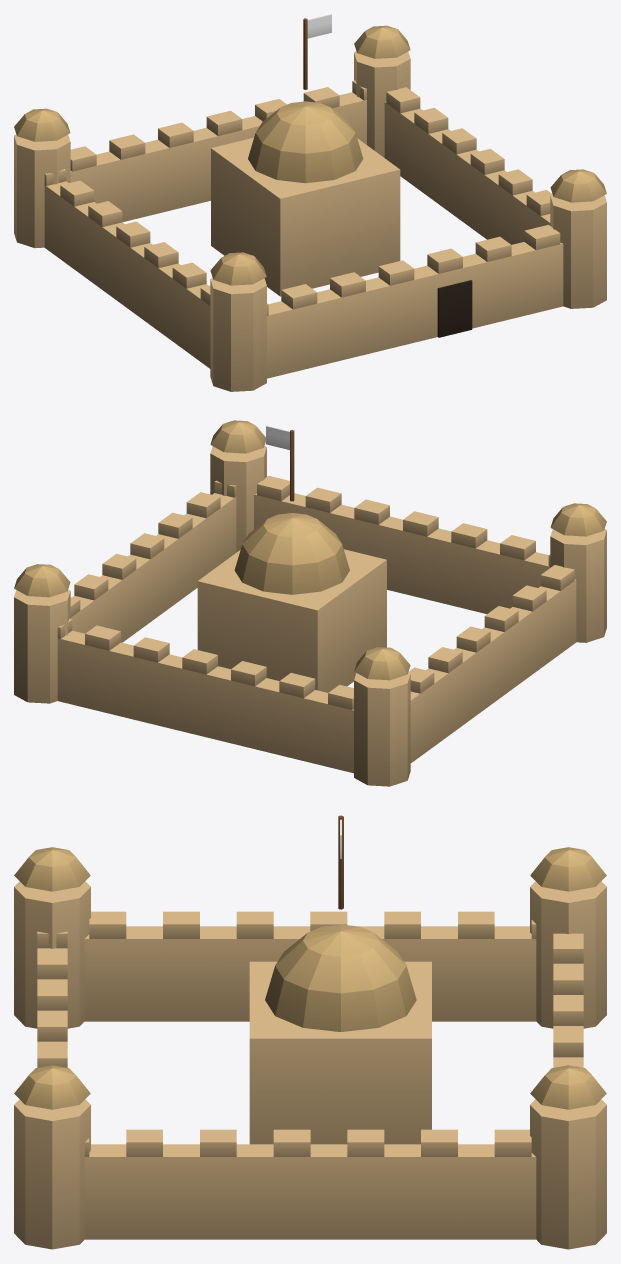
Rendered from FORT_MA.glb.
The picture shows the model from 3 angles, top to bottom: view 1: azimuth 30°, elevation 25°; view 2: azimuth 150°, elevation 25°; view 3: azimuth 270°, elevation 25°; orthographic projection. The views are drawn at different scales.
Parts seen in each view (by area): view 1: Body; view 2: Body; view 3: Body.
Part boxes in pixels (x1=…): Body: x1=14, y1=18, x2=606, y2=391; Body: x1=14, y1=420, x2=606, y2=786; Body: x1=14, y1=815, x2=606, y2=1249.
Bounding box in the file's own units: 5.86 × 3.4 × 5.86.
Materials: 1 (1 with a texture image).
